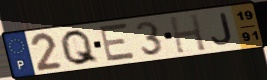2: (29, 31, 65, 73)
3: (135, 20, 165, 57)
E: (98, 21, 137, 63)
H: (167, 12, 208, 55)
J: (210, 12, 234, 47)
Q: (59, 28, 102, 67)
